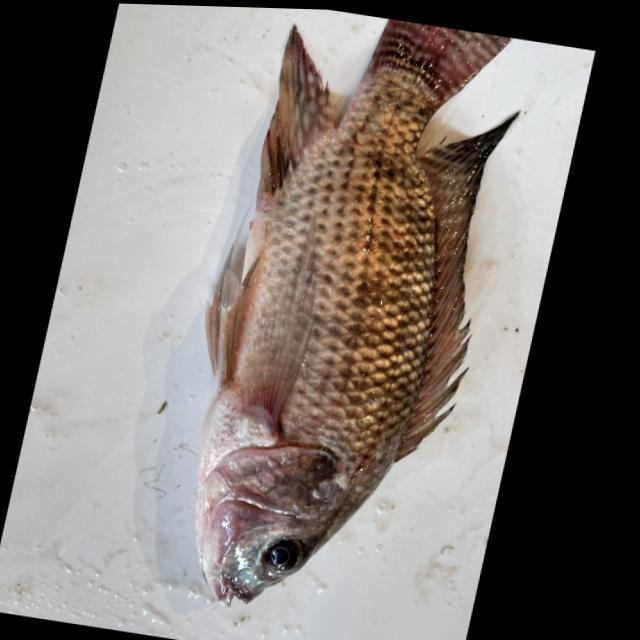Tilapia: (140, 6, 541, 633)
